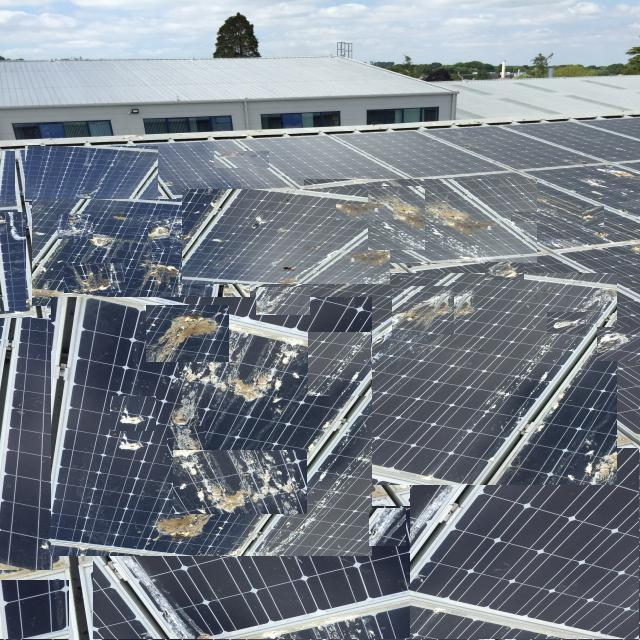Bird-drop: (173, 450, 307, 514), (146, 305, 229, 362), (308, 333, 371, 397), (368, 187, 425, 251), (392, 286, 454, 335), (493, 172, 551, 206), (64, 263, 125, 293), (580, 447, 626, 484), (111, 396, 157, 431), (257, 287, 311, 315), (134, 222, 184, 252), (597, 327, 640, 361), (369, 508, 406, 546), (168, 426, 206, 457), (549, 227, 581, 257), (214, 151, 269, 168), (336, 204, 393, 220), (57, 214, 93, 239), (586, 168, 636, 186), (69, 134, 95, 168), (547, 313, 586, 335), (485, 262, 524, 280), (148, 224, 170, 249), (582, 206, 604, 225), (511, 213, 540, 223)
